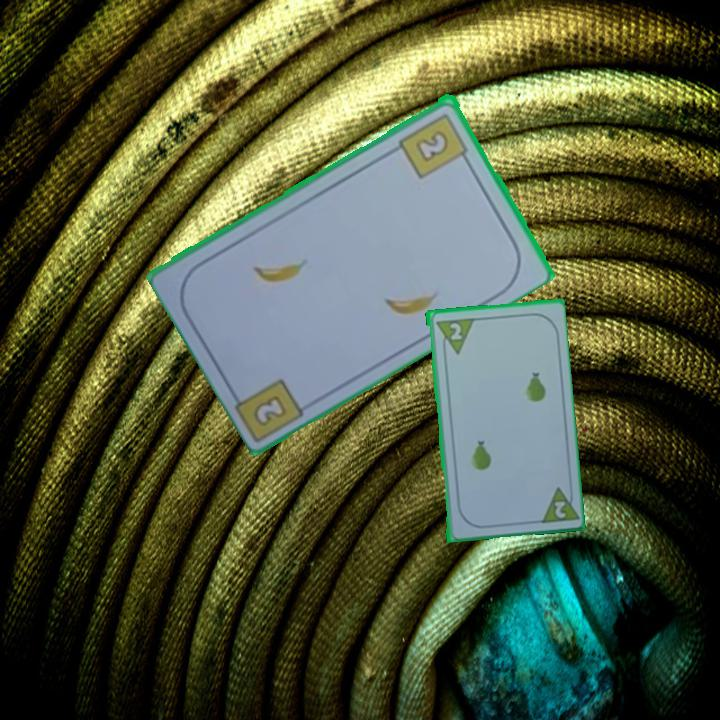2b: (396, 108, 473, 181), (252, 394, 287, 426)
2p: (550, 497, 568, 521), (446, 319, 464, 342)
